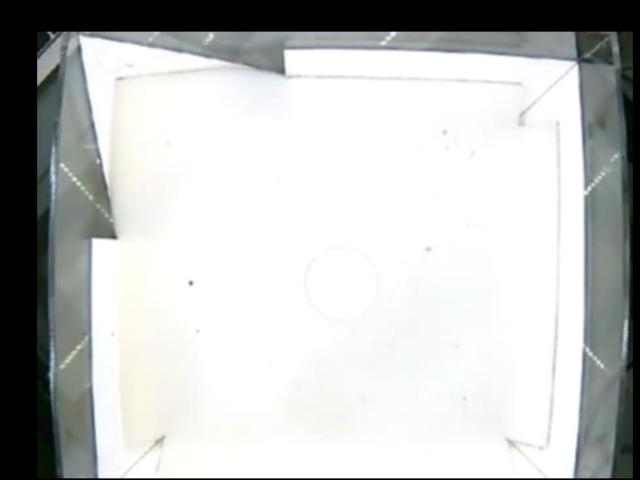Bottle: (304, 247, 378, 317)
